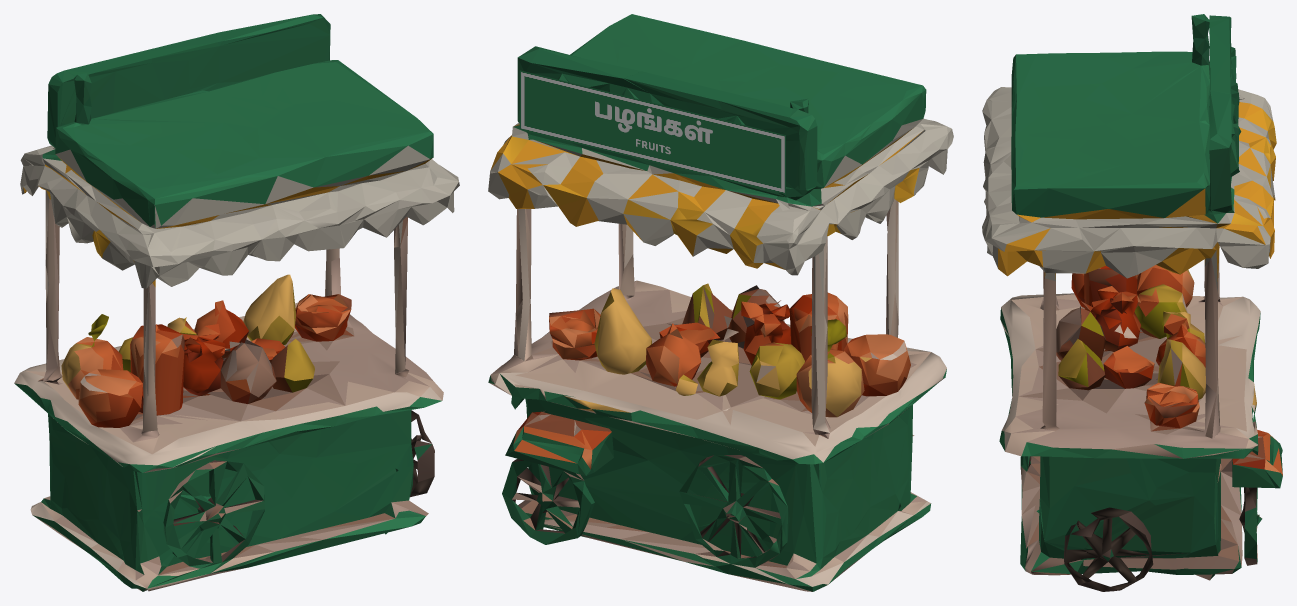
File: fruit_cart_b.glb
3 views of the same model, side by side, from view 1: azimuth 30°, elevation 25°; view 2: azimuth 150°, elevation 25°; view 3: azimuth 270°, elevation 25° (orthographic). The views are drawn at different scales.
Parts seen in each view (by area): view 1: cart; view 2: cart, sign; view 3: cart.
Part boxes in pixels (x1,y1,x2,y2): cart: (14,14,459,591); cart: (488,14,953,591); sign: (519,70,785,194); cart: (982,14,1282,591).
Size of the model in its own units: 1.74 by 2.26 by 1.37.
Materials: 2 (1 with a texture image).
